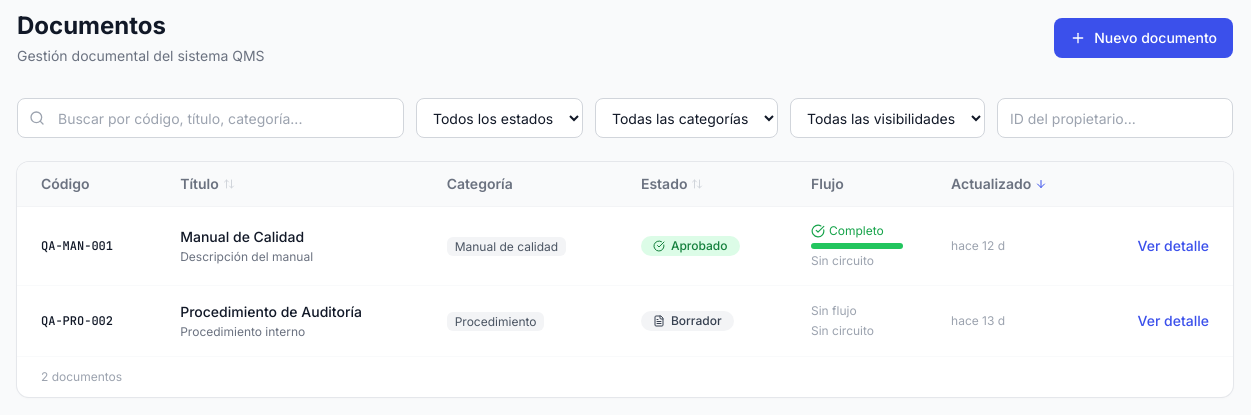
Test: DocumentsListPage › filtra por estado
Expected: the text "QA-MAN-001" is shown, [17,206,156,286]
Expected: the text "QA-PRO-002" is shown, [17,286,156,356]
Select "Borrador" in the dropdown showing "Todos los estados" at (500, 118), box [416,98,583,138]
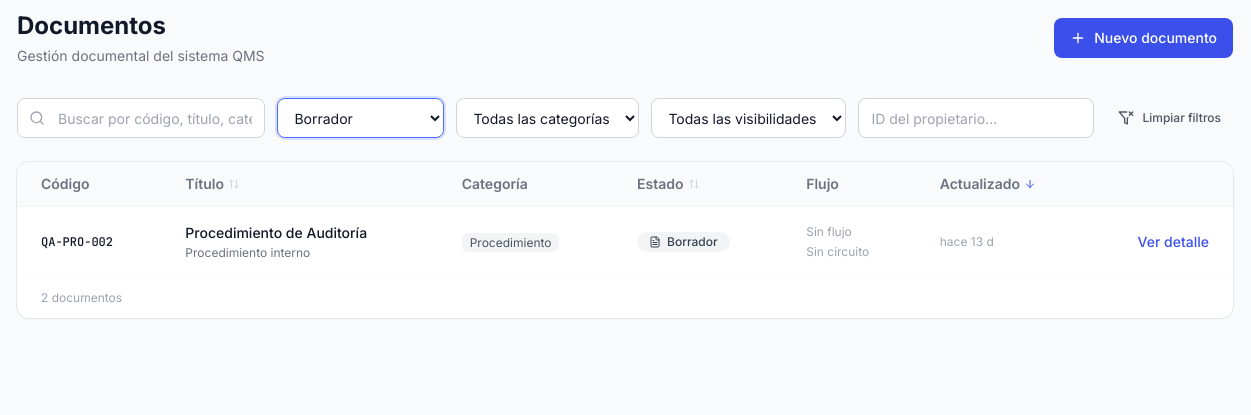
Expected: the text "QA-PRO-002" is shown, [17,206,161,277]
Expected: the text "QA-MAN-001" is gone
